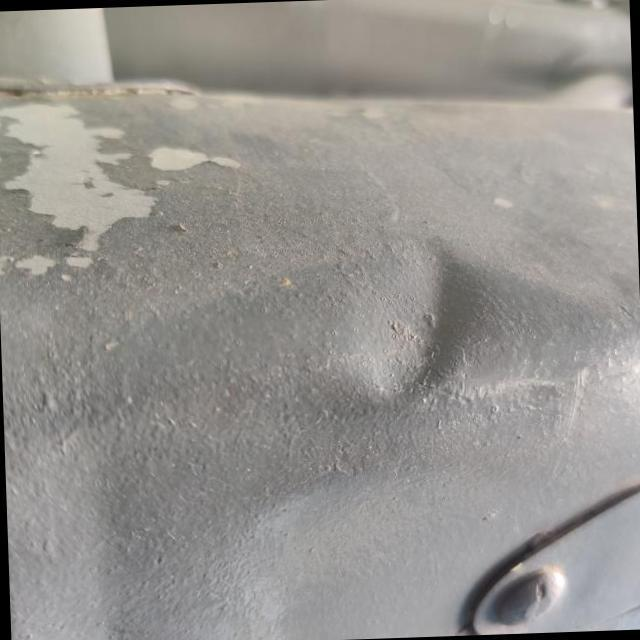Dent: (334, 222, 520, 439)
